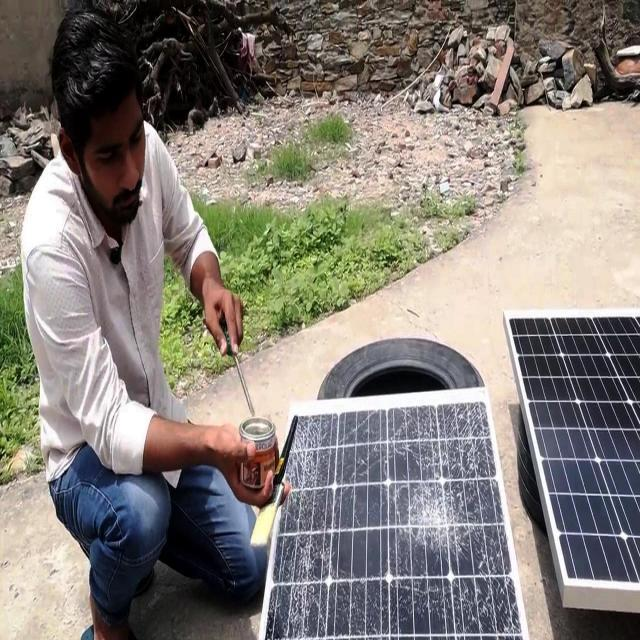faulty: (264, 394, 522, 640)
no faulty: (506, 310, 640, 588)
